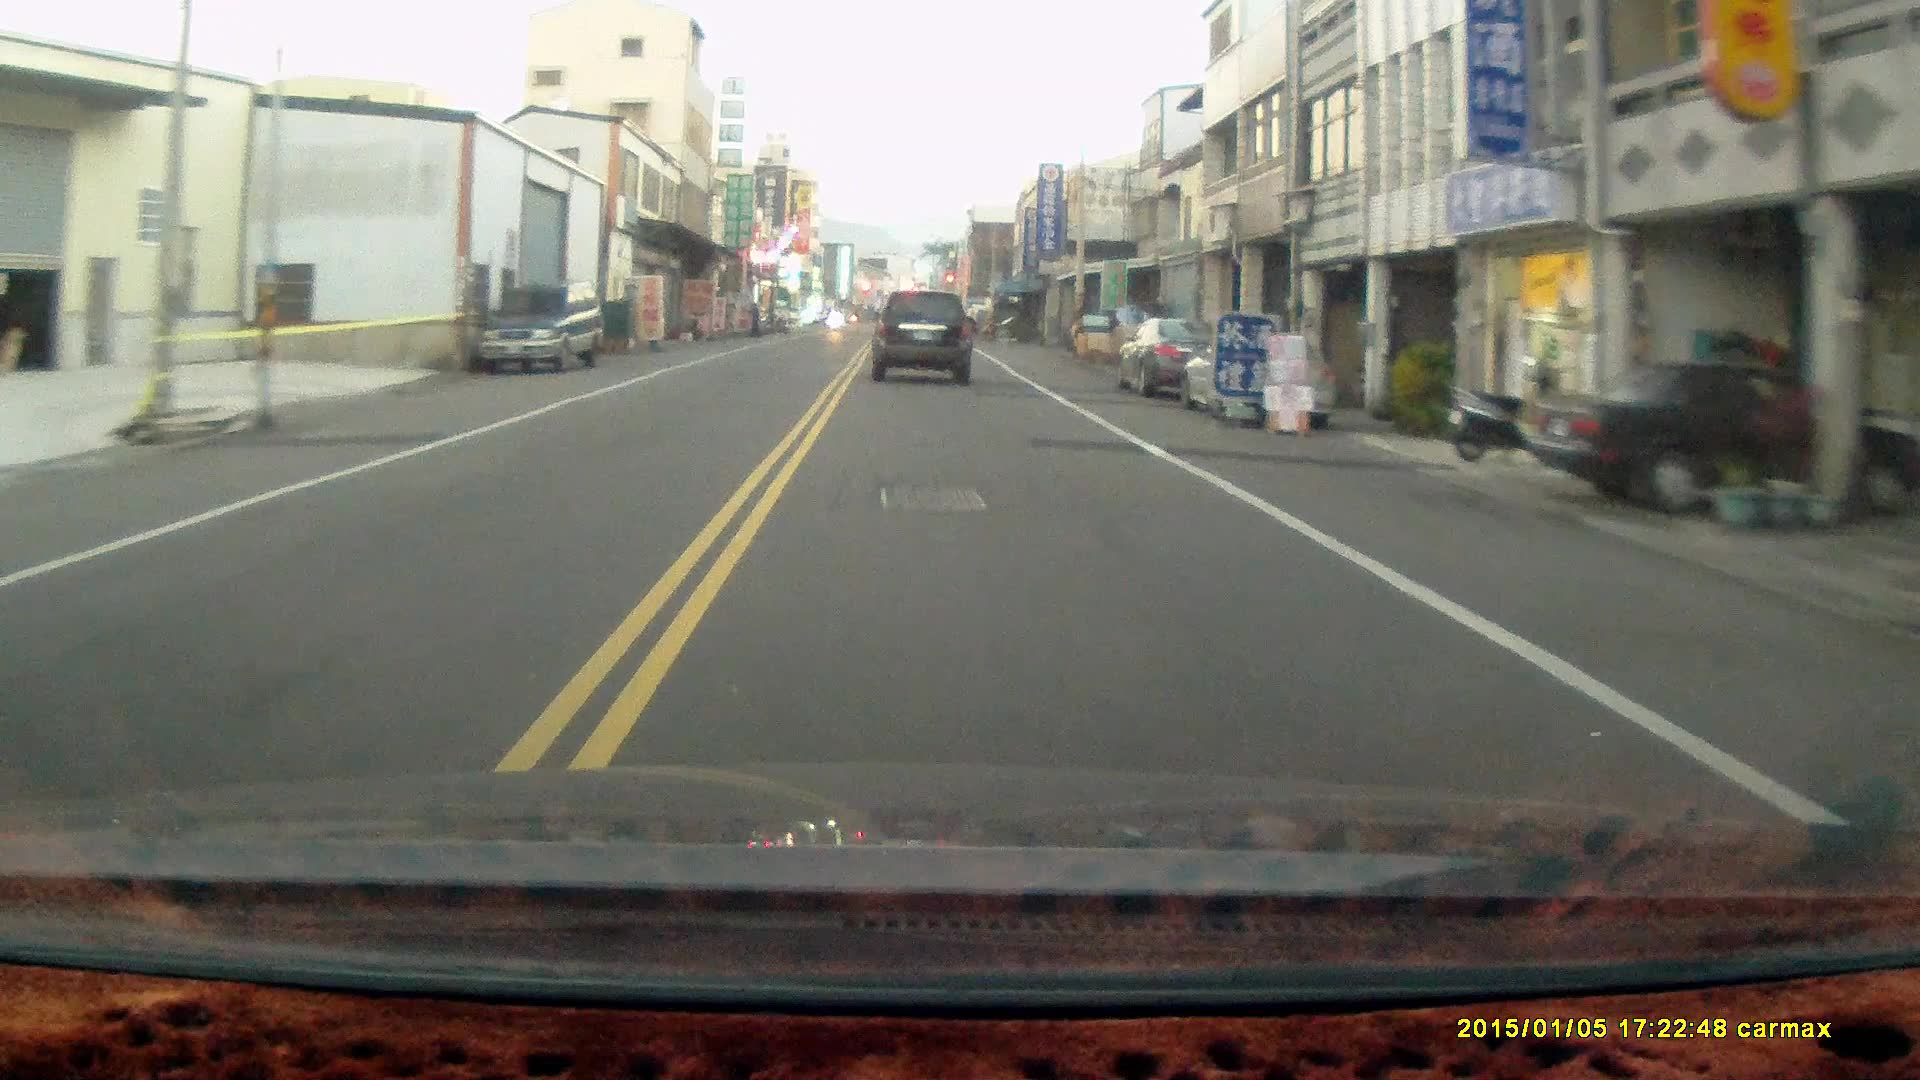vehicle: (1530, 364, 1904, 524), (1182, 332, 1342, 429), (475, 281, 603, 378), (870, 293, 975, 390), (1118, 318, 1237, 397)
